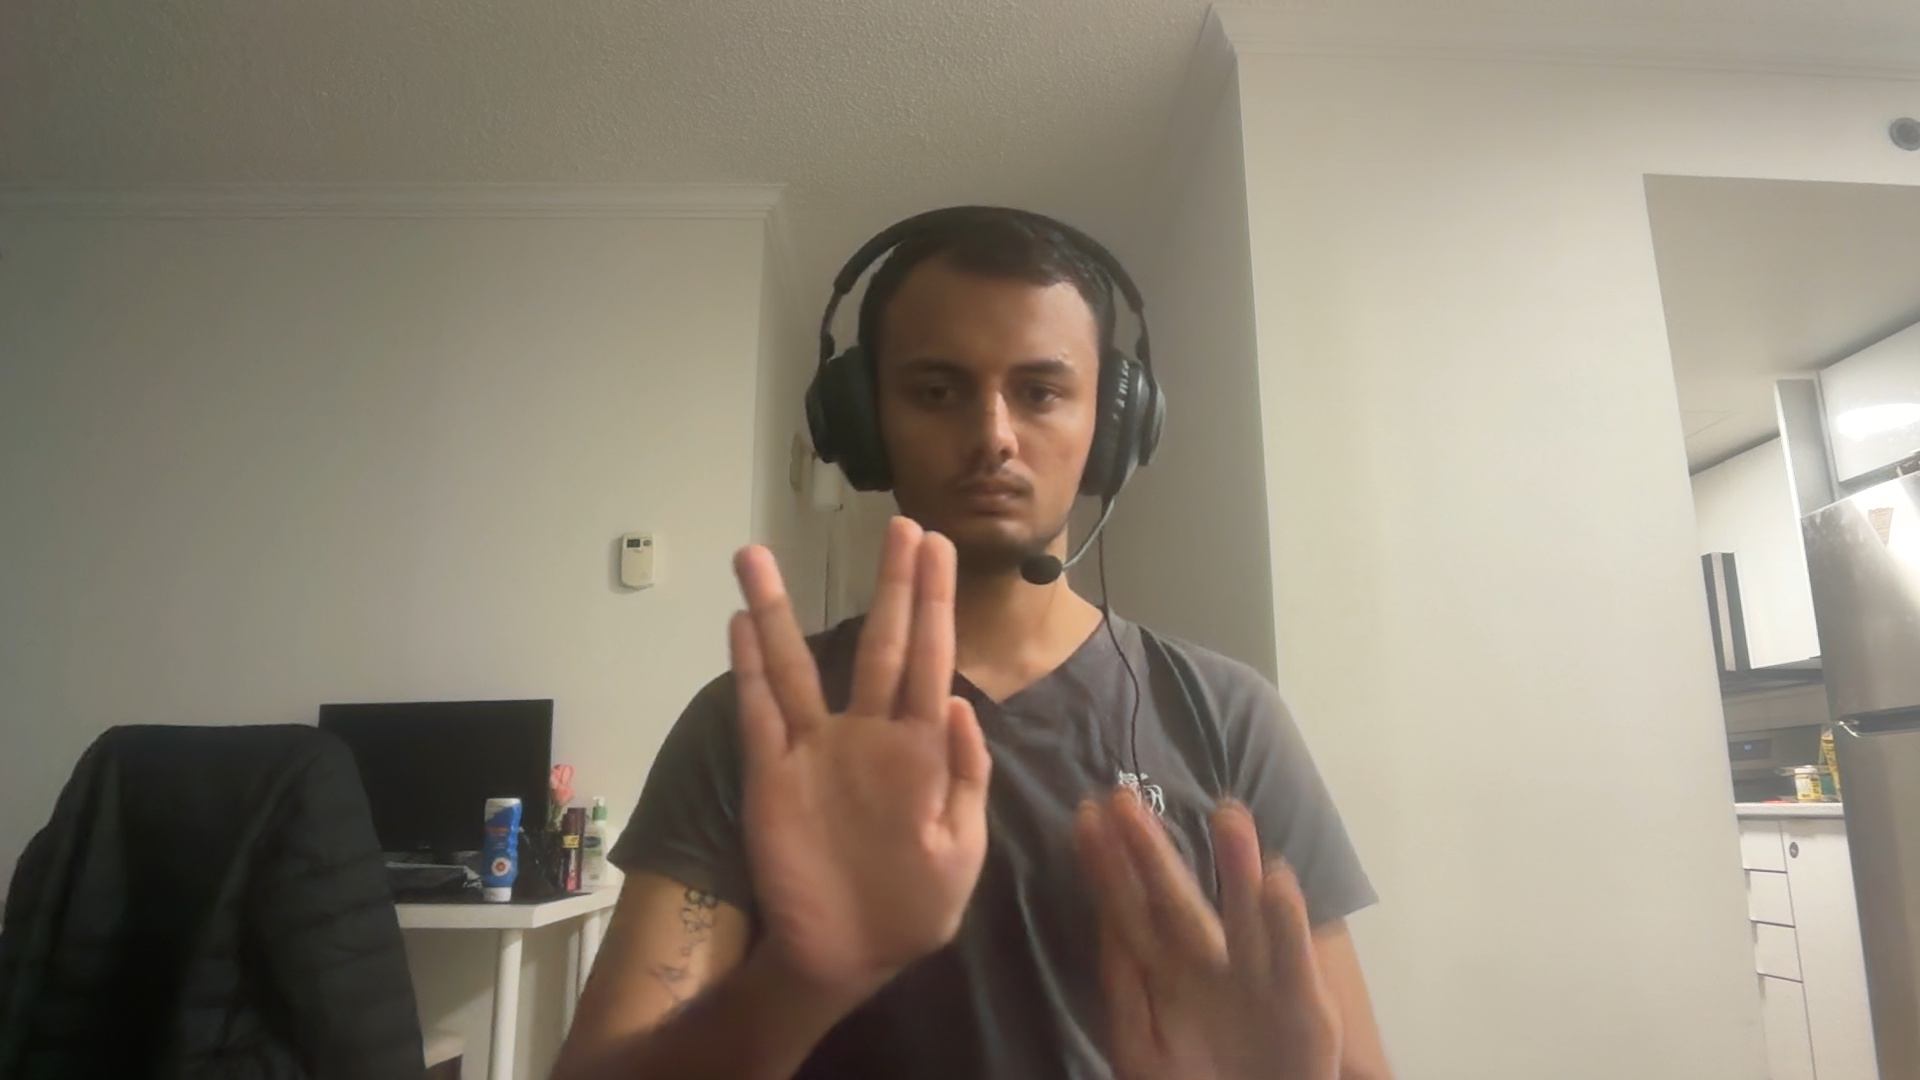livelong: (728, 513, 992, 980)
